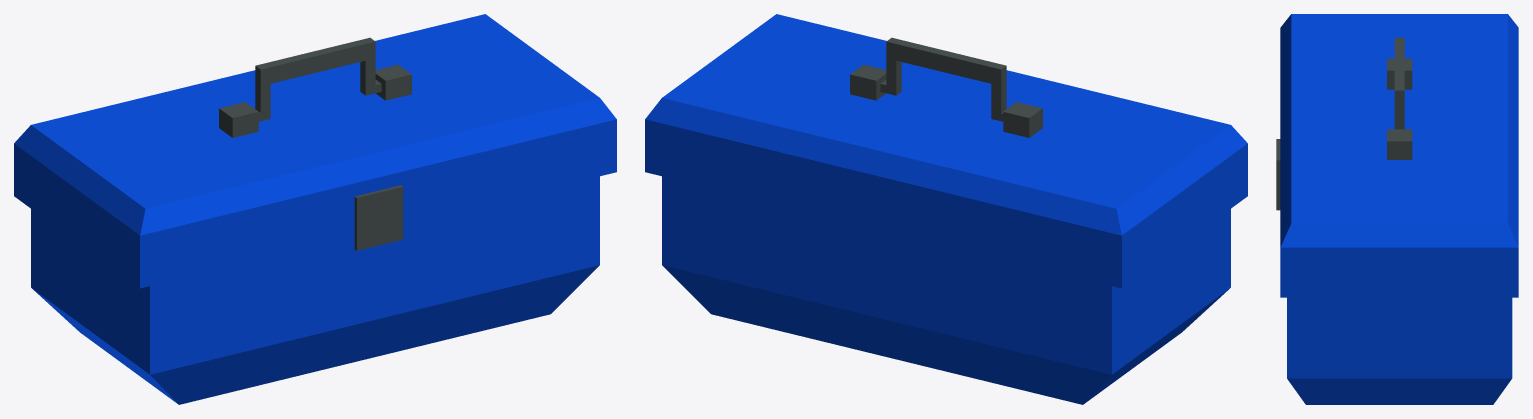
File: CajaHerramienta.fbx
3 views of the same model, side by side, from view 1: azimuth 30°, elevation 25°; view 2: azimuth 150°, elevation 25°; view 3: azimuth 270°, elevation 25° (orthographic). The views are drawn at different scales.
Parts seen in each view (by area): view 1: CajHerramientas; view 2: CajHerramientas; view 3: CajHerramientas.
Boxes of the visible parts, bbox=[...] form: CajHerramientas: bbox=[14, 14, 616, 404]; CajHerramientas: bbox=[645, 14, 1247, 404]; CajHerramientas: bbox=[1276, 14, 1518, 404].
Bounding box in the file's own units: 6.86 × 3.71 × 3.2.
